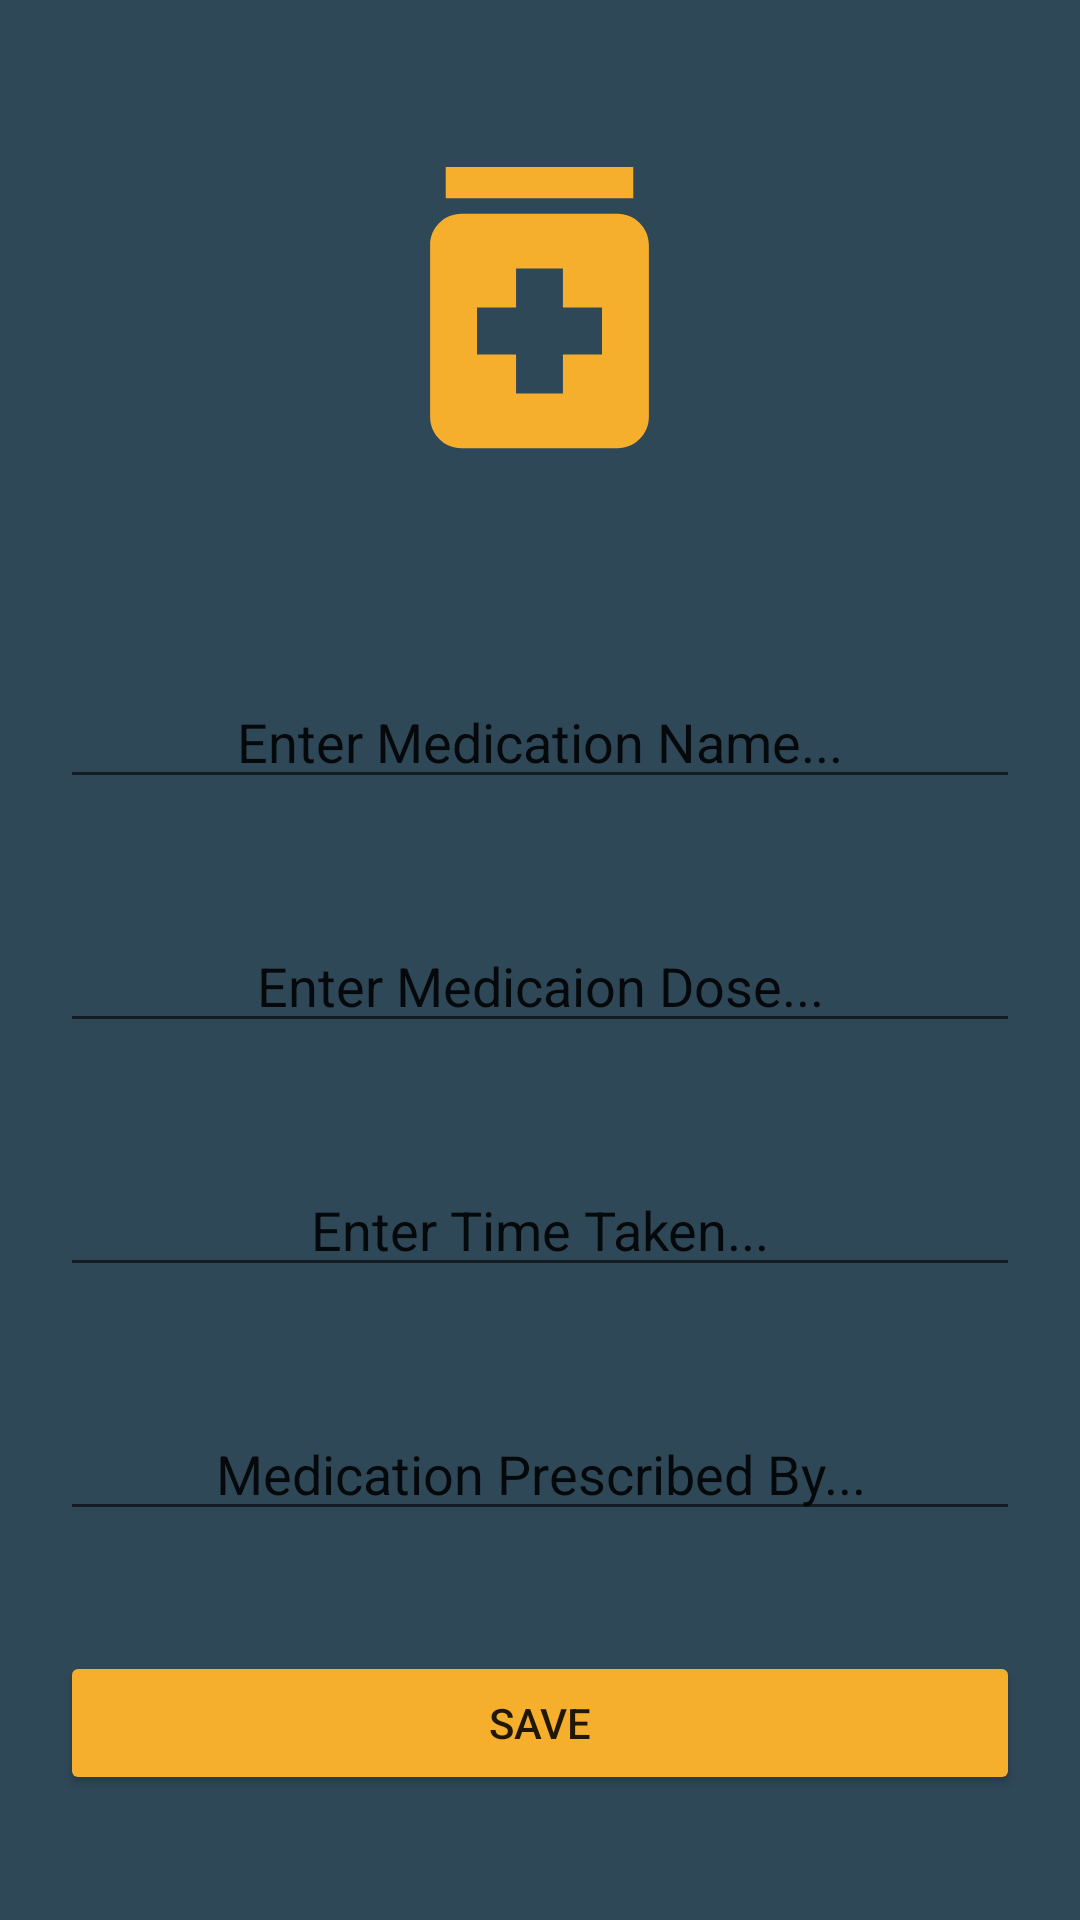

Where to tap for icons on this 1080×1920 app screen, as (x,y):
medication bottle: (539,308)
